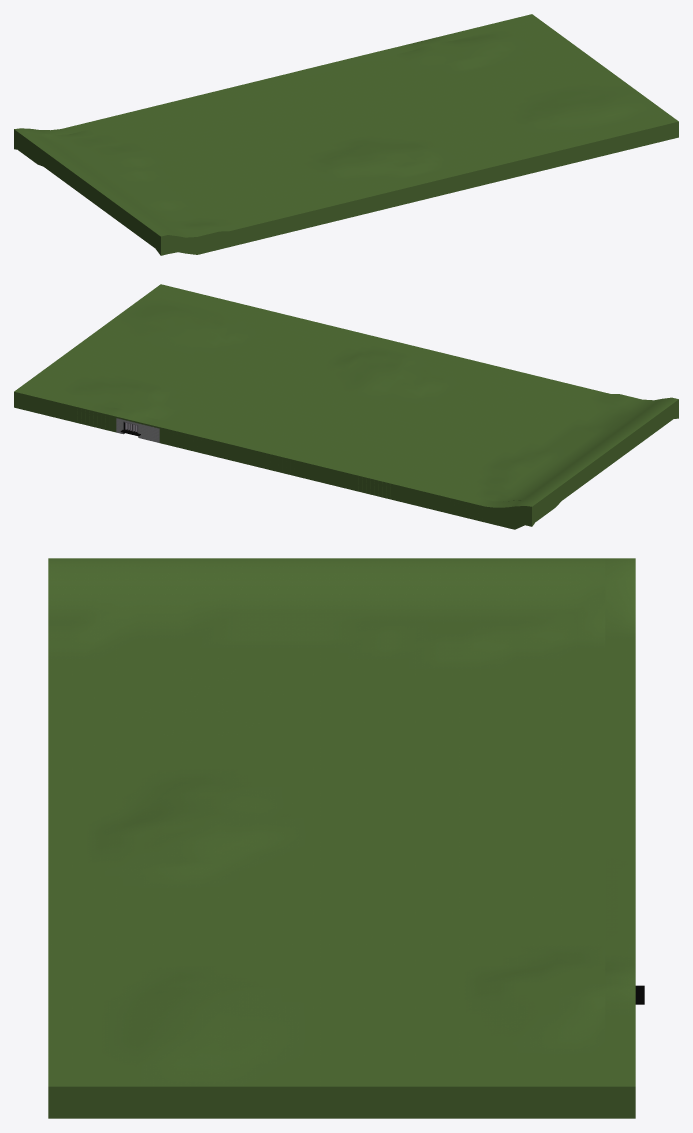
The model's file is RightPlane.fbx.
3 views of the same model, one above another, from view 1: azimuth 30°, elevation 25°; view 2: azimuth 150°, elevation 25°; view 3: azimuth 270°, elevation 25° (orthographic). The views are drawn at different scales.
Parts seen in each view (by area): view 1: RightPlane; view 2: RightPlane; view 3: RightPlane.
Boxes of the visible parts, x1,y1,x2,y2 form: RightPlane: (14,14,678,255); RightPlane: (14,284,678,529); RightPlane: (48,558,635,1118).
Bounding box in the file's own units: 64539 × 3247 × 32175.
5 materials, 4 textured.
